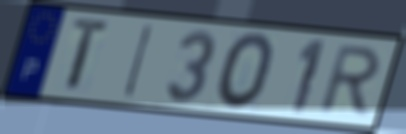1: (290, 38, 329, 117)
3: (164, 27, 218, 105)
I: (120, 22, 157, 100)
O: (213, 30, 277, 112)
R: (314, 44, 385, 118)
T: (65, 15, 114, 95)
